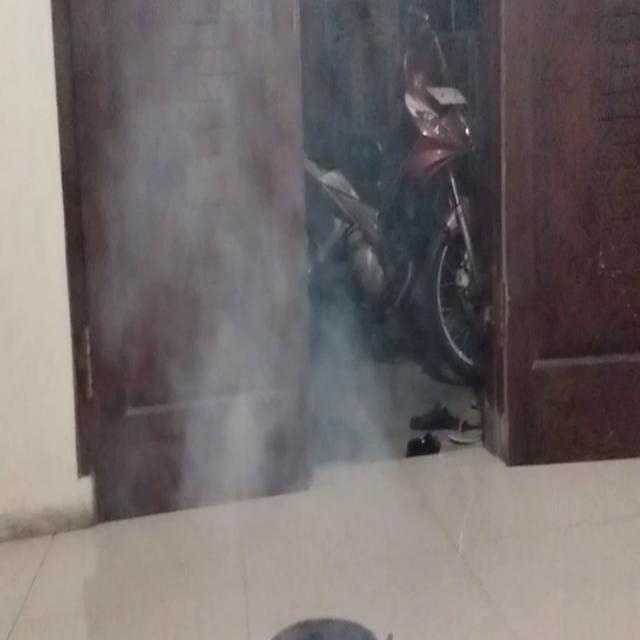smoke: (115, 1, 409, 306), (103, 336, 427, 575)
